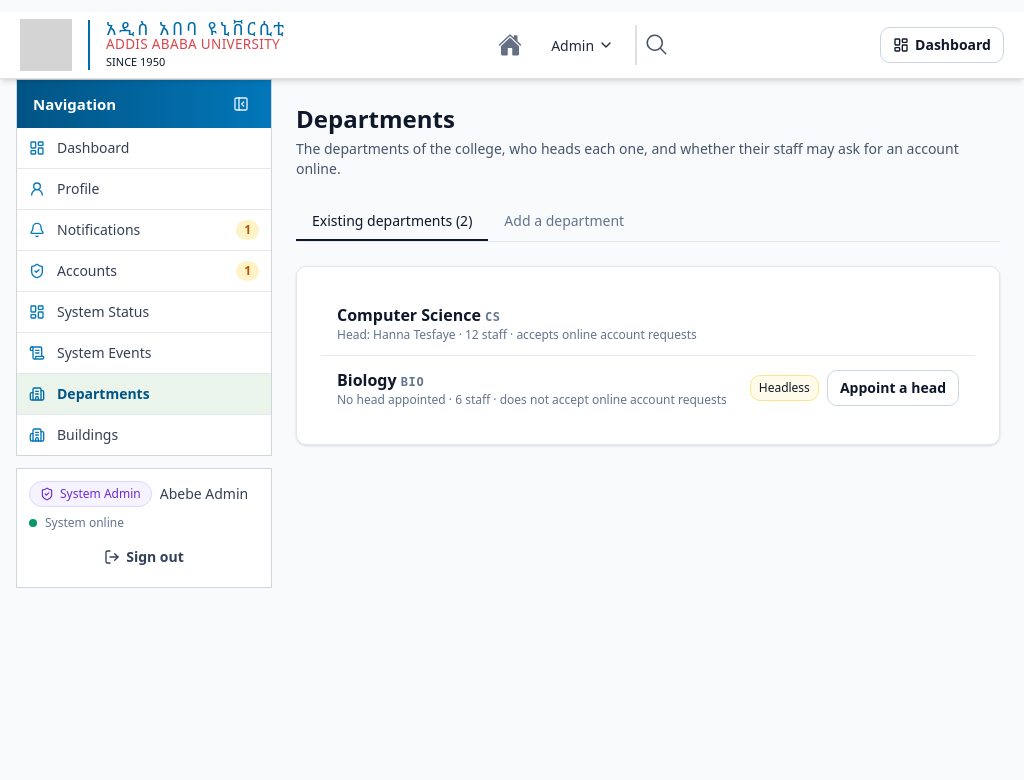
Test: /admin/departments — existing list and add form are tabs › opens on the list, with the add form behind its own tab
Expected: the text "Computer Science" is shown, [337, 304, 481, 326]
Expected: the field labelled "Code" is not shown
Click the button "Add a department".
click(564, 222)  # box [488, 203, 640, 241]
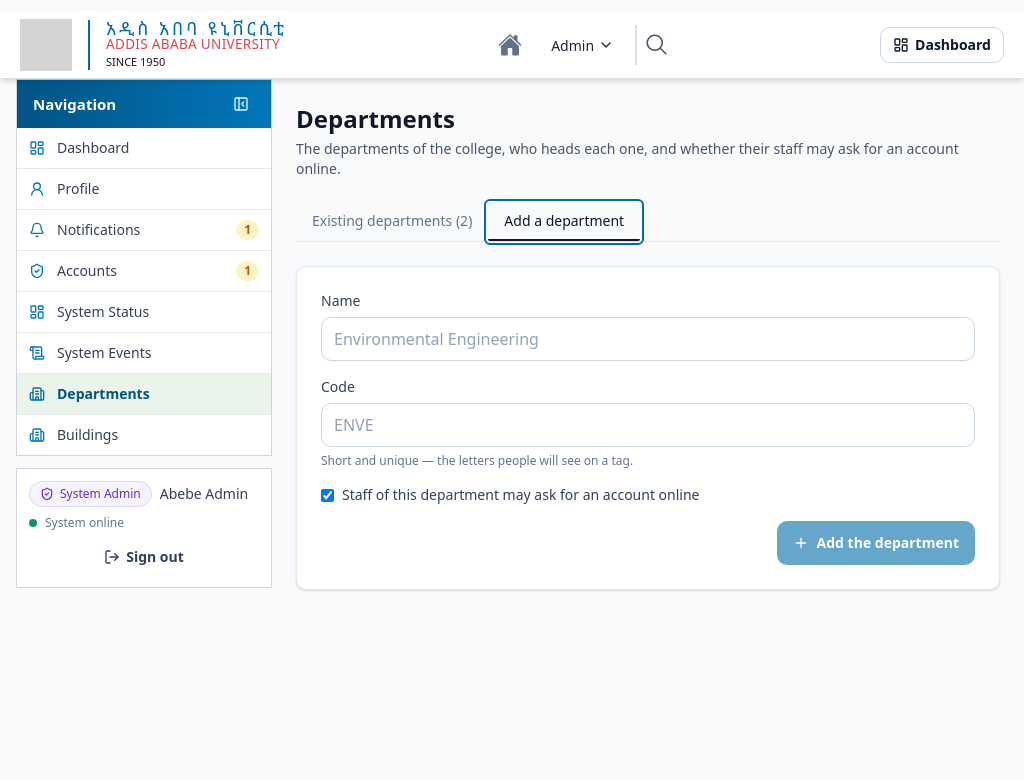
Expected: the field labelled "Code" is shown, [321, 403, 975, 447]
Expected: the text "Computer Science" is gone
Click the button "Existing departments (2)".
click(392, 222)  # box [296, 203, 488, 241]
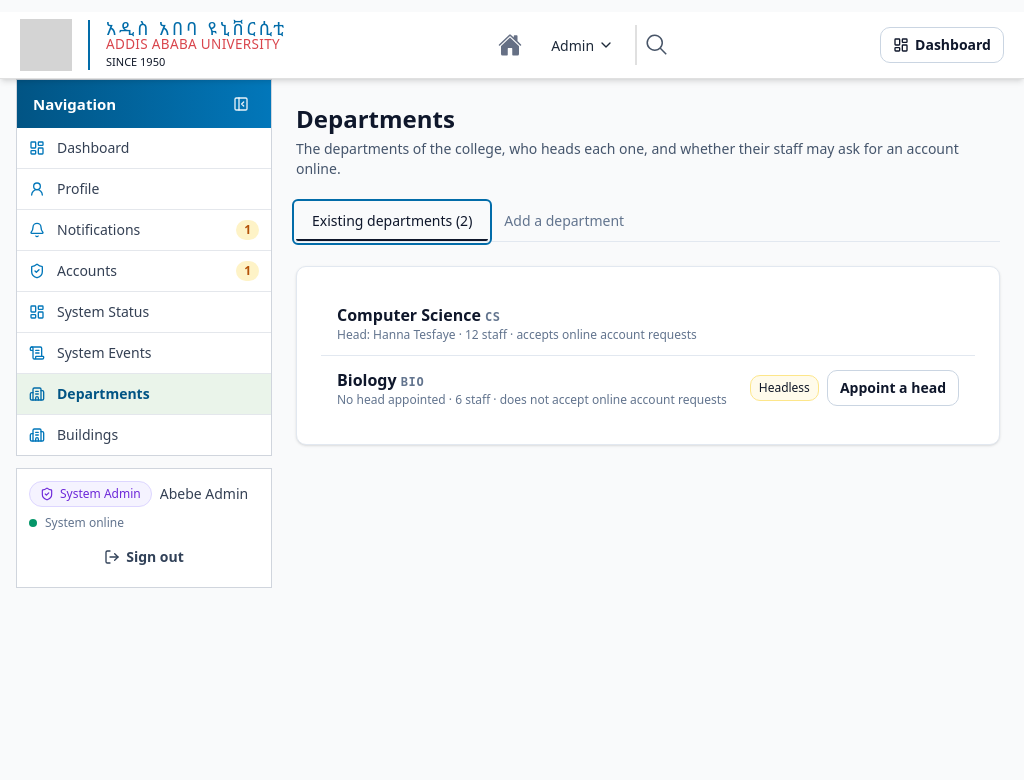
Expected: the text "Computer Science" is shown, [337, 304, 481, 326]
